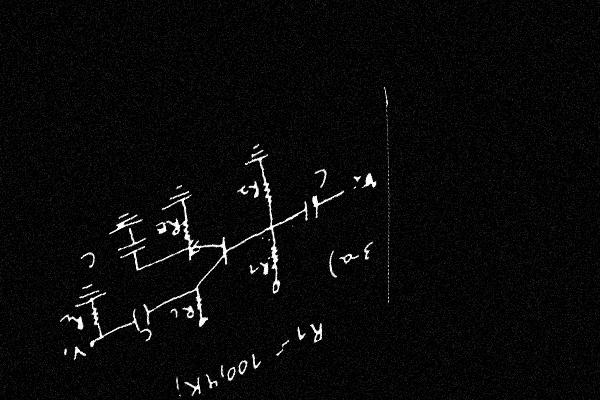capacitor: (116, 231, 150, 267), (298, 190, 326, 229), (126, 297, 154, 336)
ground: (104, 202, 146, 244), (70, 274, 109, 315), (157, 176, 195, 217), (240, 137, 270, 173)
resistor: (265, 237, 285, 280), (259, 171, 278, 216), (178, 212, 195, 246), (87, 300, 103, 335), (191, 288, 207, 318)
